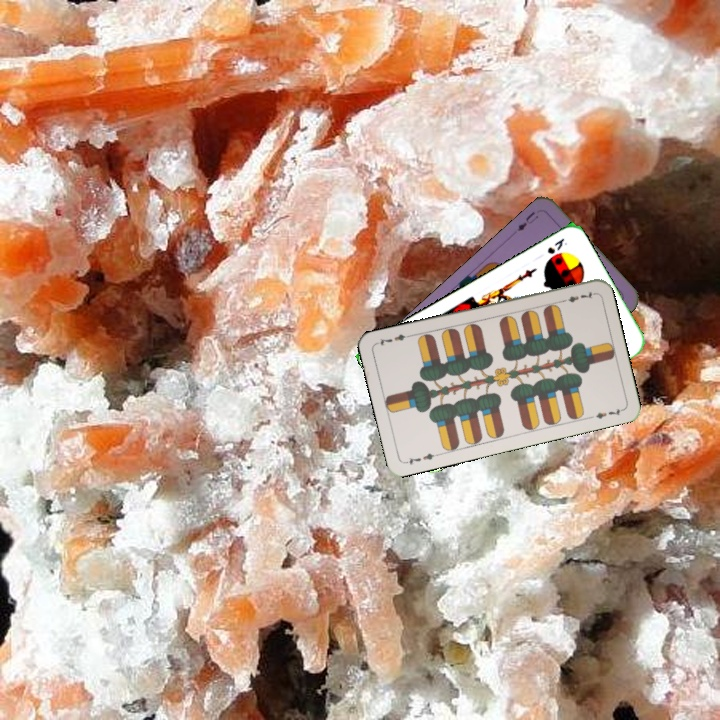E7: (401, 449, 441, 467), (557, 288, 597, 305)
EU: (513, 207, 541, 234)
SK: (543, 234, 570, 257)
